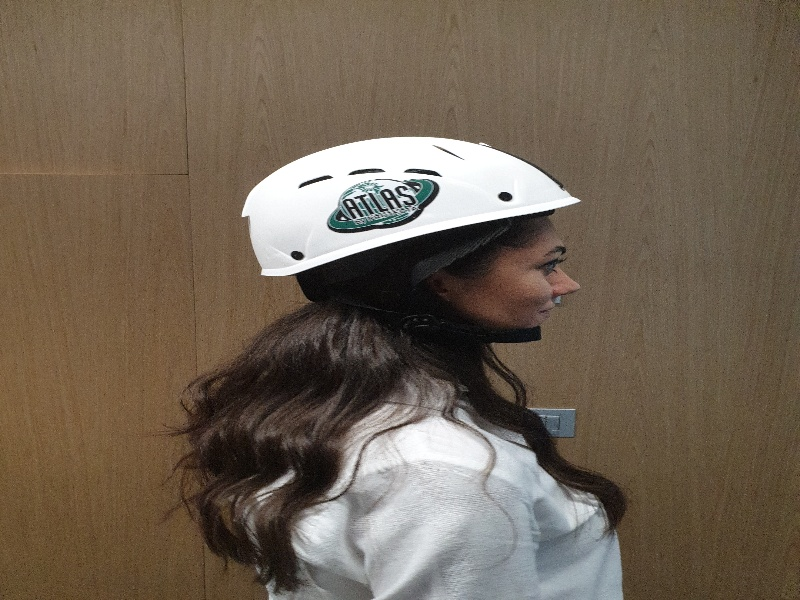Baret: (242, 133, 586, 279)
